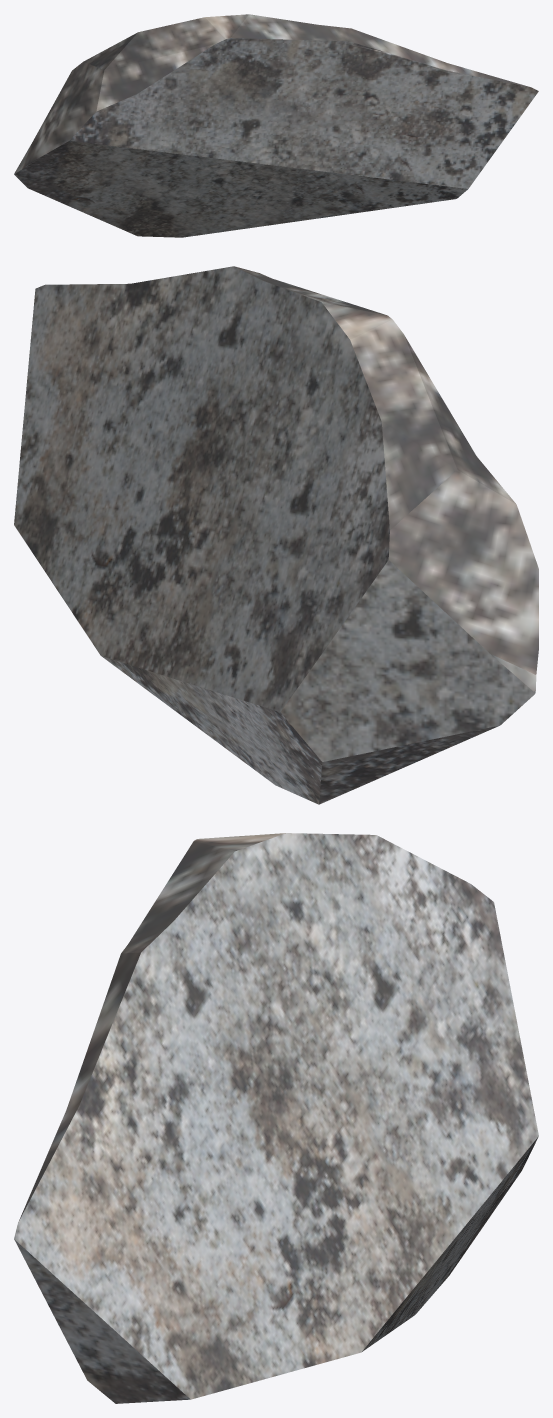
File: Asteroid_Medium_001_02_002_03_007.fbx
The picture shows the model from 3 angles, top to bottom: view 1: azimuth 30°, elevation 25°; view 2: azimuth 150°, elevation 25°; view 3: azimuth 270°, elevation 25°; orthographic projection. The views are drawn at different scales.
Visible parts, largest first — view 1: Asteroid_Medium_001_02_002_03_007; view 2: Asteroid_Medium_001_02_002_03_007; view 3: Asteroid_Medium_001_02_002_03_007.
Part boxes in pixels (box(x1,y1,x2,y2)): Asteroid_Medium_001_02_002_03_007: box(14, 14, 538, 237); Asteroid_Medium_001_02_002_03_007: box(14, 266, 538, 804); Asteroid_Medium_001_02_002_03_007: box(14, 833, 538, 1403).
Bounding box in the file's own units: 15.1 × 8.83 × 8.73.
